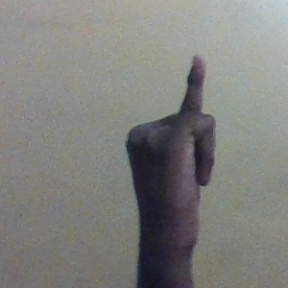I: (121, 52, 230, 243)
